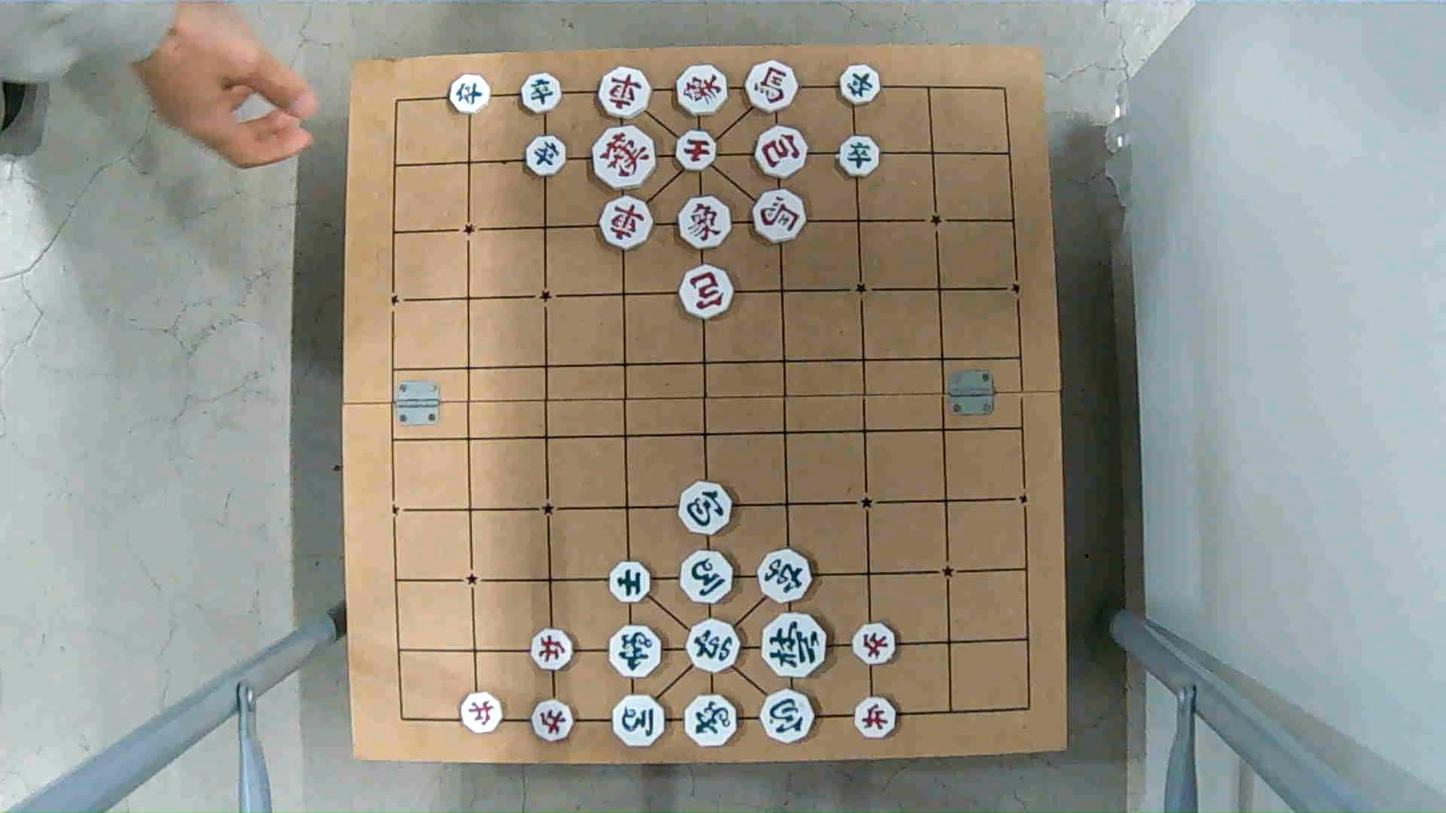cha_green: (758, 545, 813, 605), (684, 620, 740, 669)
cha_red: (600, 196, 654, 251), (596, 65, 653, 115)
jol_green: (837, 138, 883, 175), (527, 138, 569, 177), (521, 75, 564, 113), (839, 67, 882, 104), (449, 76, 490, 113)
jol_red: (850, 624, 899, 665), (527, 702, 575, 741), (529, 629, 576, 668), (852, 696, 898, 735), (461, 694, 505, 732)
ma_green: (612, 696, 670, 746), (682, 553, 738, 604)
ma_red: (750, 189, 806, 244), (747, 65, 802, 113)
po_green: (760, 692, 816, 741), (677, 481, 733, 529)
po_red: (682, 266, 737, 317), (760, 127, 813, 177)
sa_green: (610, 562, 654, 603)
sa_red: (677, 132, 720, 169)
sang_green: (686, 693, 739, 748), (609, 626, 660, 678)
sang_red: (675, 63, 728, 120), (676, 196, 733, 248)
wang_green: (758, 612, 829, 677)
wang_red: (592, 121, 655, 187)
